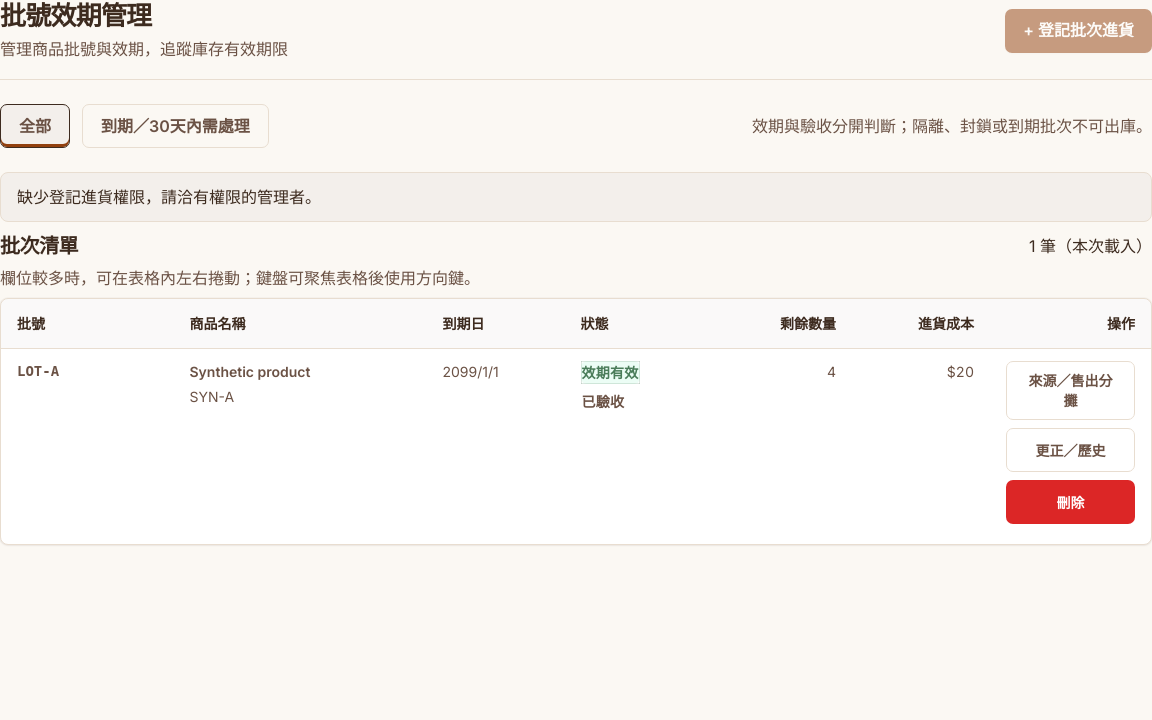
Test: batch source dialog through real read client and synthetic HTTP › closes and forgets the trace selection after authentication A/B/A
This screenshot has width=1152, height=720.
What coordinates should you click on to do the following:
click the button "來源／售出分攤"
I would click on:
 (1070, 391)
Its box is [1006,361,1135,420].
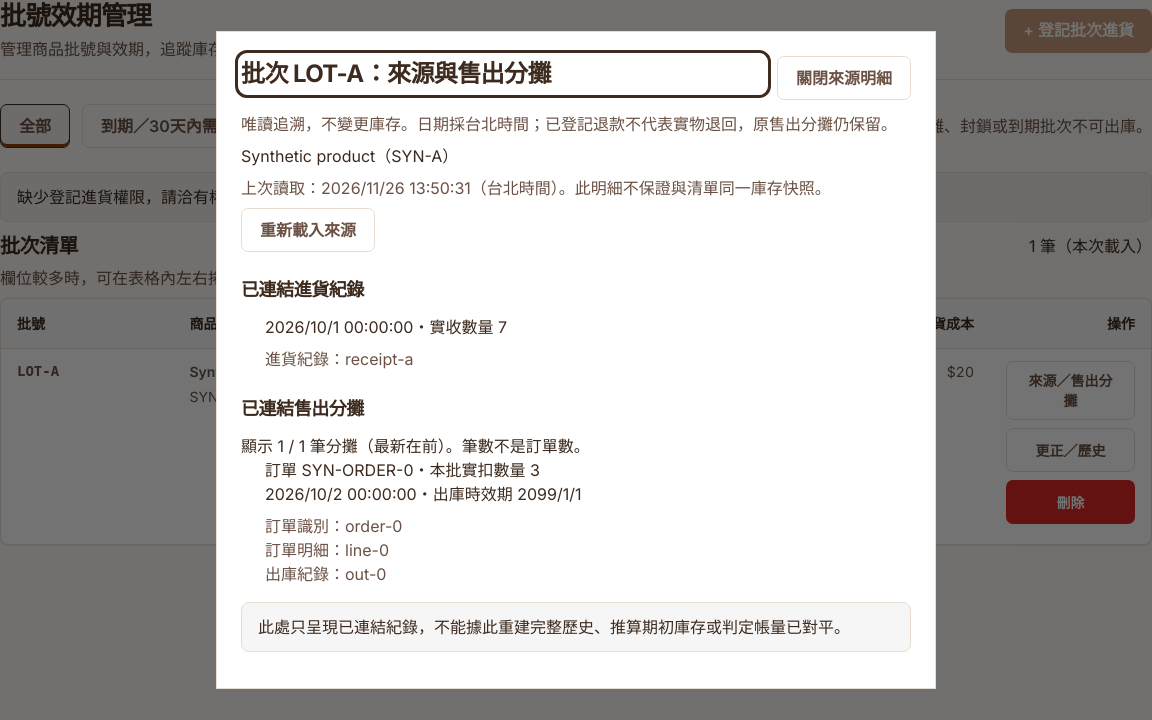
Expected: the text "訂單 SYN-ORDER-0・本批實扣數量 3" is shown, [265,460,540,480]
